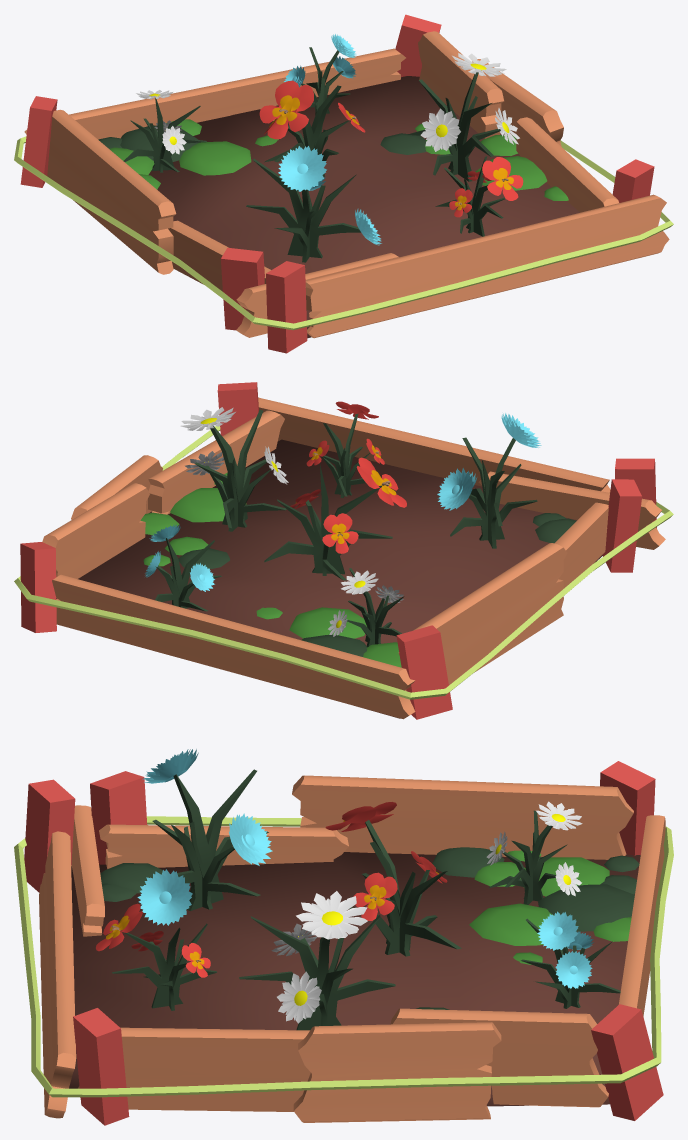
The model's file is s_flowers.fbx.
3 views of the same model, one above another, from view 1: azimuth 30°, elevation 25°; view 2: azimuth 150°, elevation 25°; view 3: azimuth 270°, elevation 25° (orthographic). The views are drawn at different scales.
Visible parts, largest first — view 1: s_flowerbed_frame, s_flowerbed_ground, s_flowerbed_flowerbase, s_flowerbed_flowers; view 2: s_flowerbed_frame, s_flowerbed_ground, s_flowerbed_flowerbase, s_flowerbed_flowers; view 3: s_flowerbed_frame, s_flowerbed_ground, s_flowerbed_flowerbase, s_flowerbed_flowers.
Part boxes in pixels (<box>): s_flowerbed_frame: <box>14,14,673,353</box>; s_flowerbed_ground: <box>98,76,579,338</box>; s_flowerbed_flowerbase: <box>123,47,505,262</box>; s_flowerbed_flowers: <box>136,34,523,245</box>; s_flowerbed_frame: <box>14,382,673,719</box>; s_flowerbed_ground: <box>56,439,602,718</box>; s_flowerbed_flowerbase: <box>155,410,537,646</box>; s_flowerbed_flowers: <box>145,401,541,636</box>; s_flowerbed_frame: <box>14,761,673,1125</box>; s_flowerbed_ground: <box>69,847,640,1106</box>; s_flowerbed_flowerbase: <box>112,769,620,1030</box>; s_flowerbed_flowers: <box>96,749,593,1023</box>.
Size of the model in its own units: 268 by 275 by 88.14.
